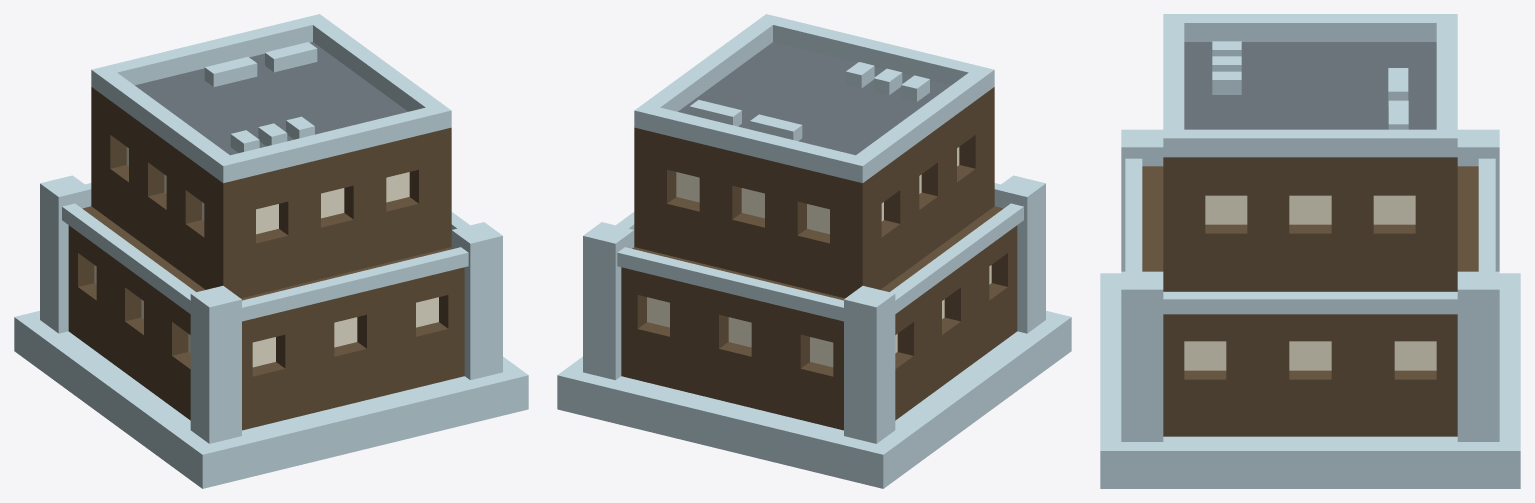
The model's file is Building_6_Base_Extra (Brown).obj.
3 renders of one model, left to right at view 1: azimuth 30°, elevation 25°; view 2: azimuth 150°, elevation 25°; view 3: azimuth 270°, elevation 25°, orthographic. The views are drawn at different scales.
Visible parts, largest first — view 1: Building_6_Base_Extra_(Brown); view 2: Building_6_Base_Extra_(Brown); view 3: Building_6_Base_Extra_(Brown).
Boxes of the visible parts, x1=… form: Building_6_Base_Extra_(Brown): x1=14, y1=14, x2=528, y2=488; Building_6_Base_Extra_(Brown): x1=557, y1=14, x2=1071, y2=488; Building_6_Base_Extra_(Brown): x1=1100, y1=14, x2=1520, y2=488.
Size of the model in its own units: 2 by 1.7 by 2.
